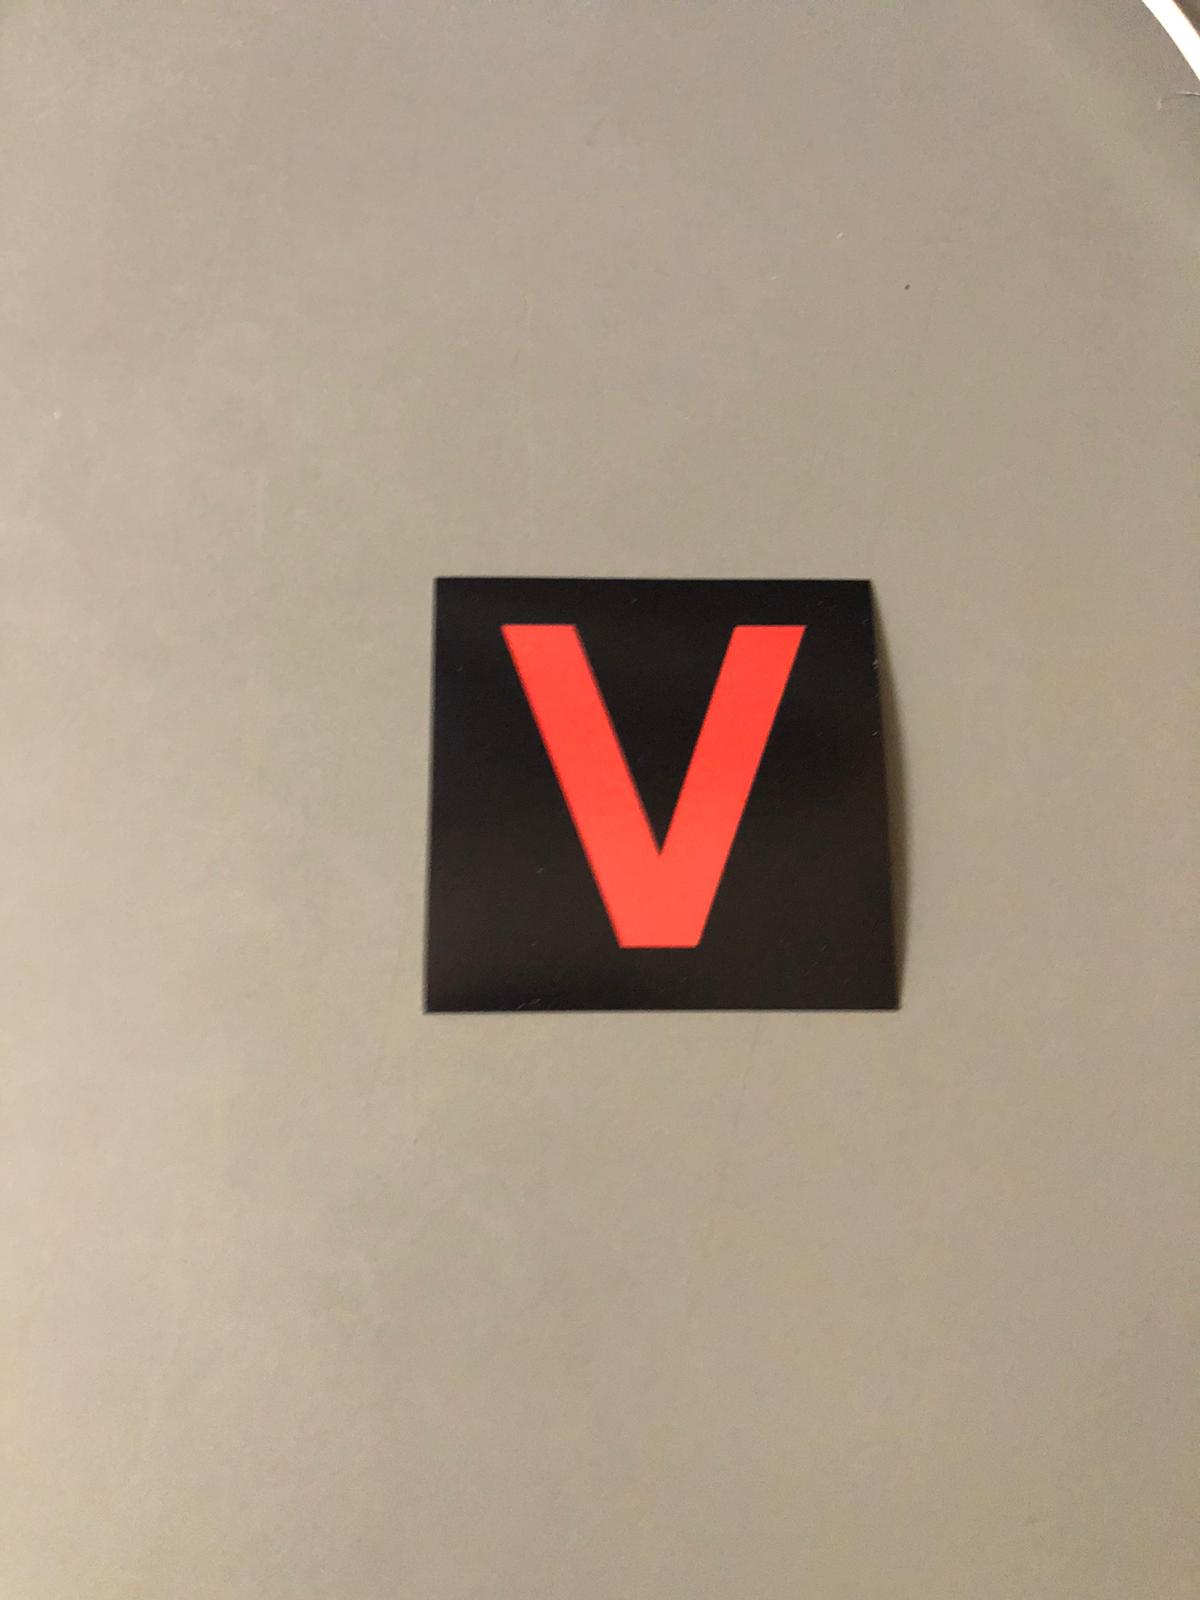V: (455, 587, 903, 986)
